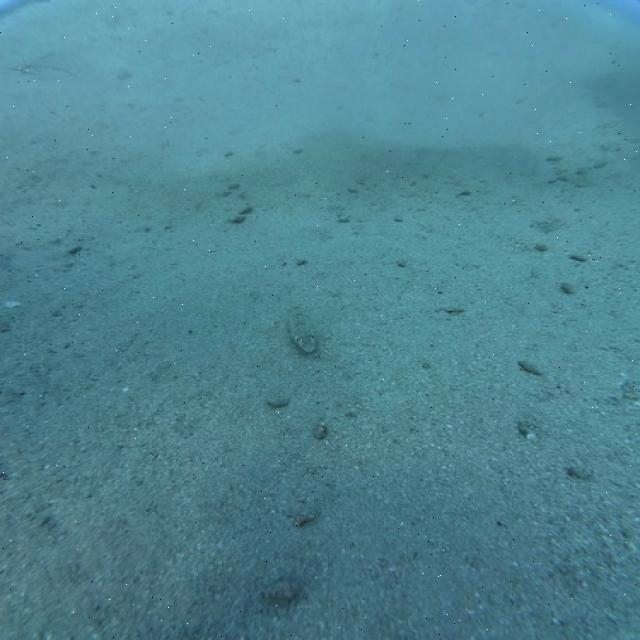Balik: (290, 307, 316, 352)
